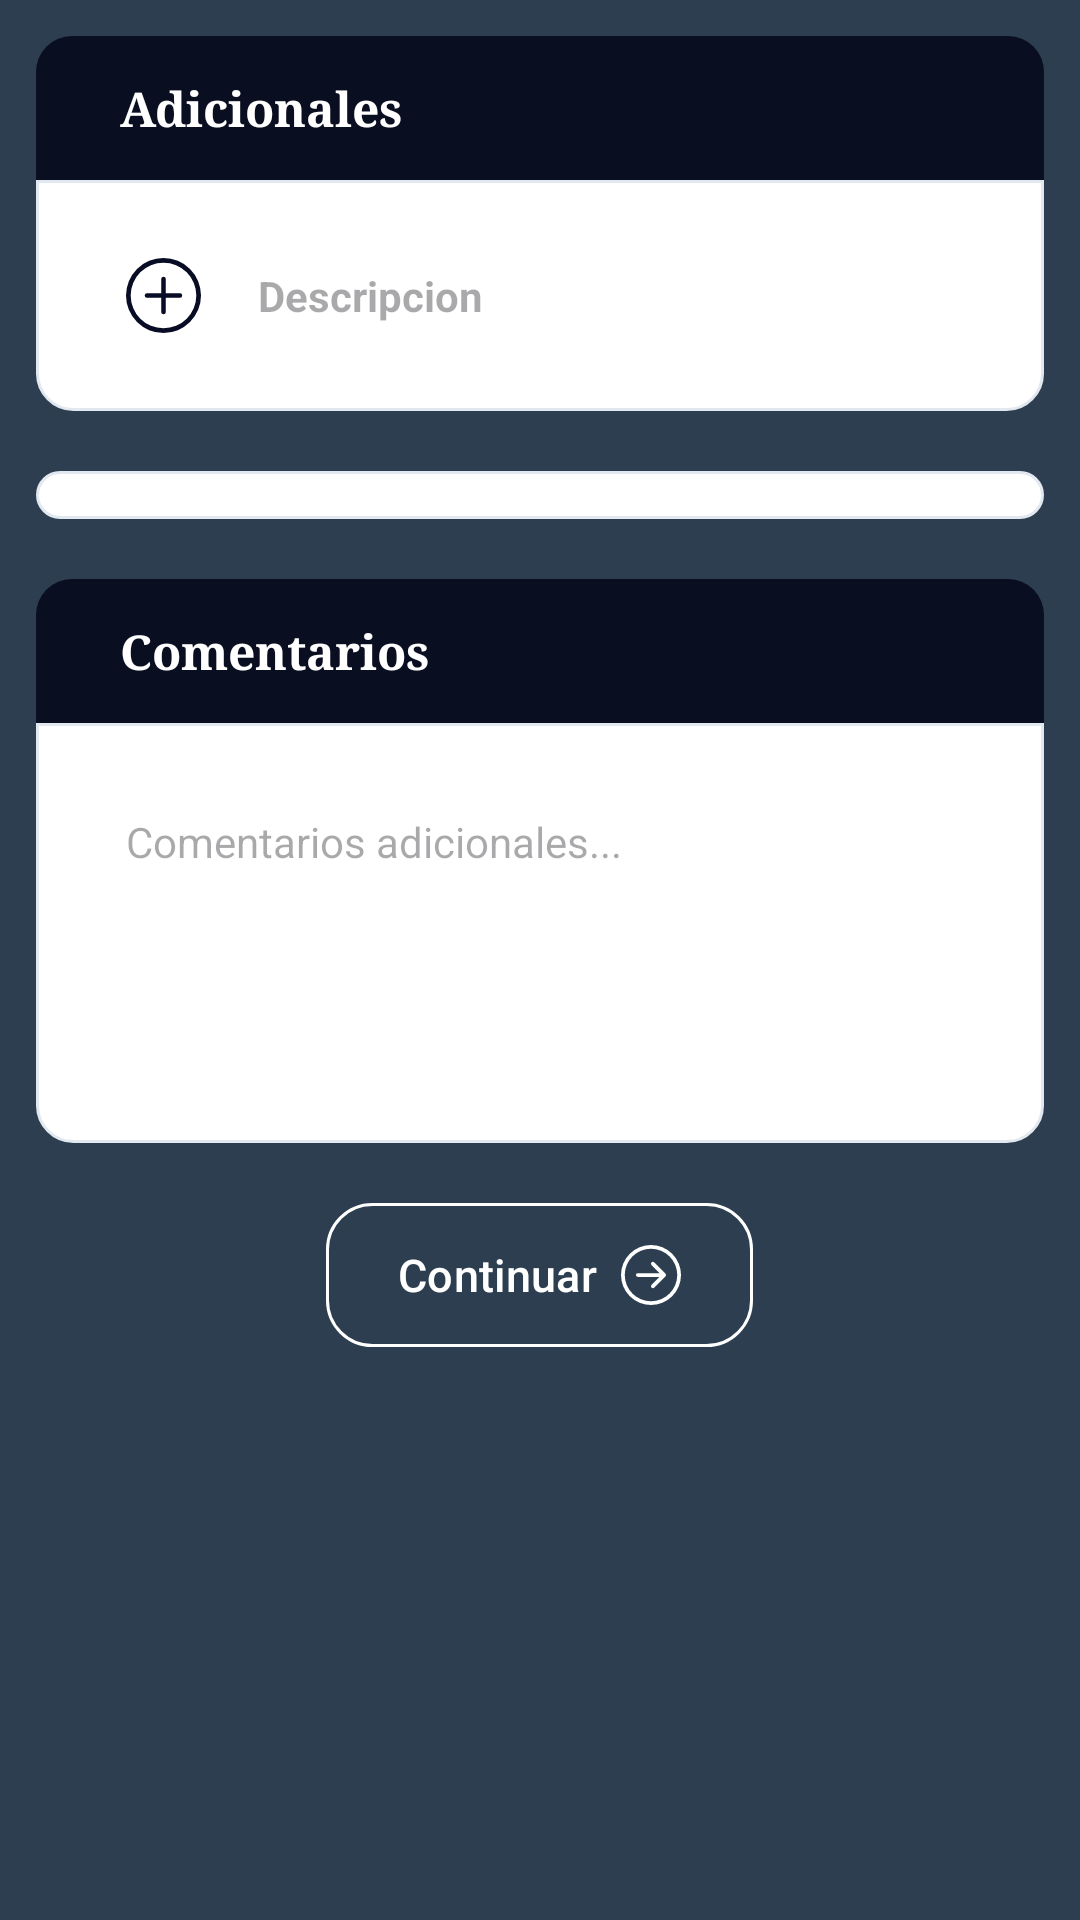

Where to tap for icons on this 1080w x 1920h app screen, as (x,y):
anade: (163,295)
